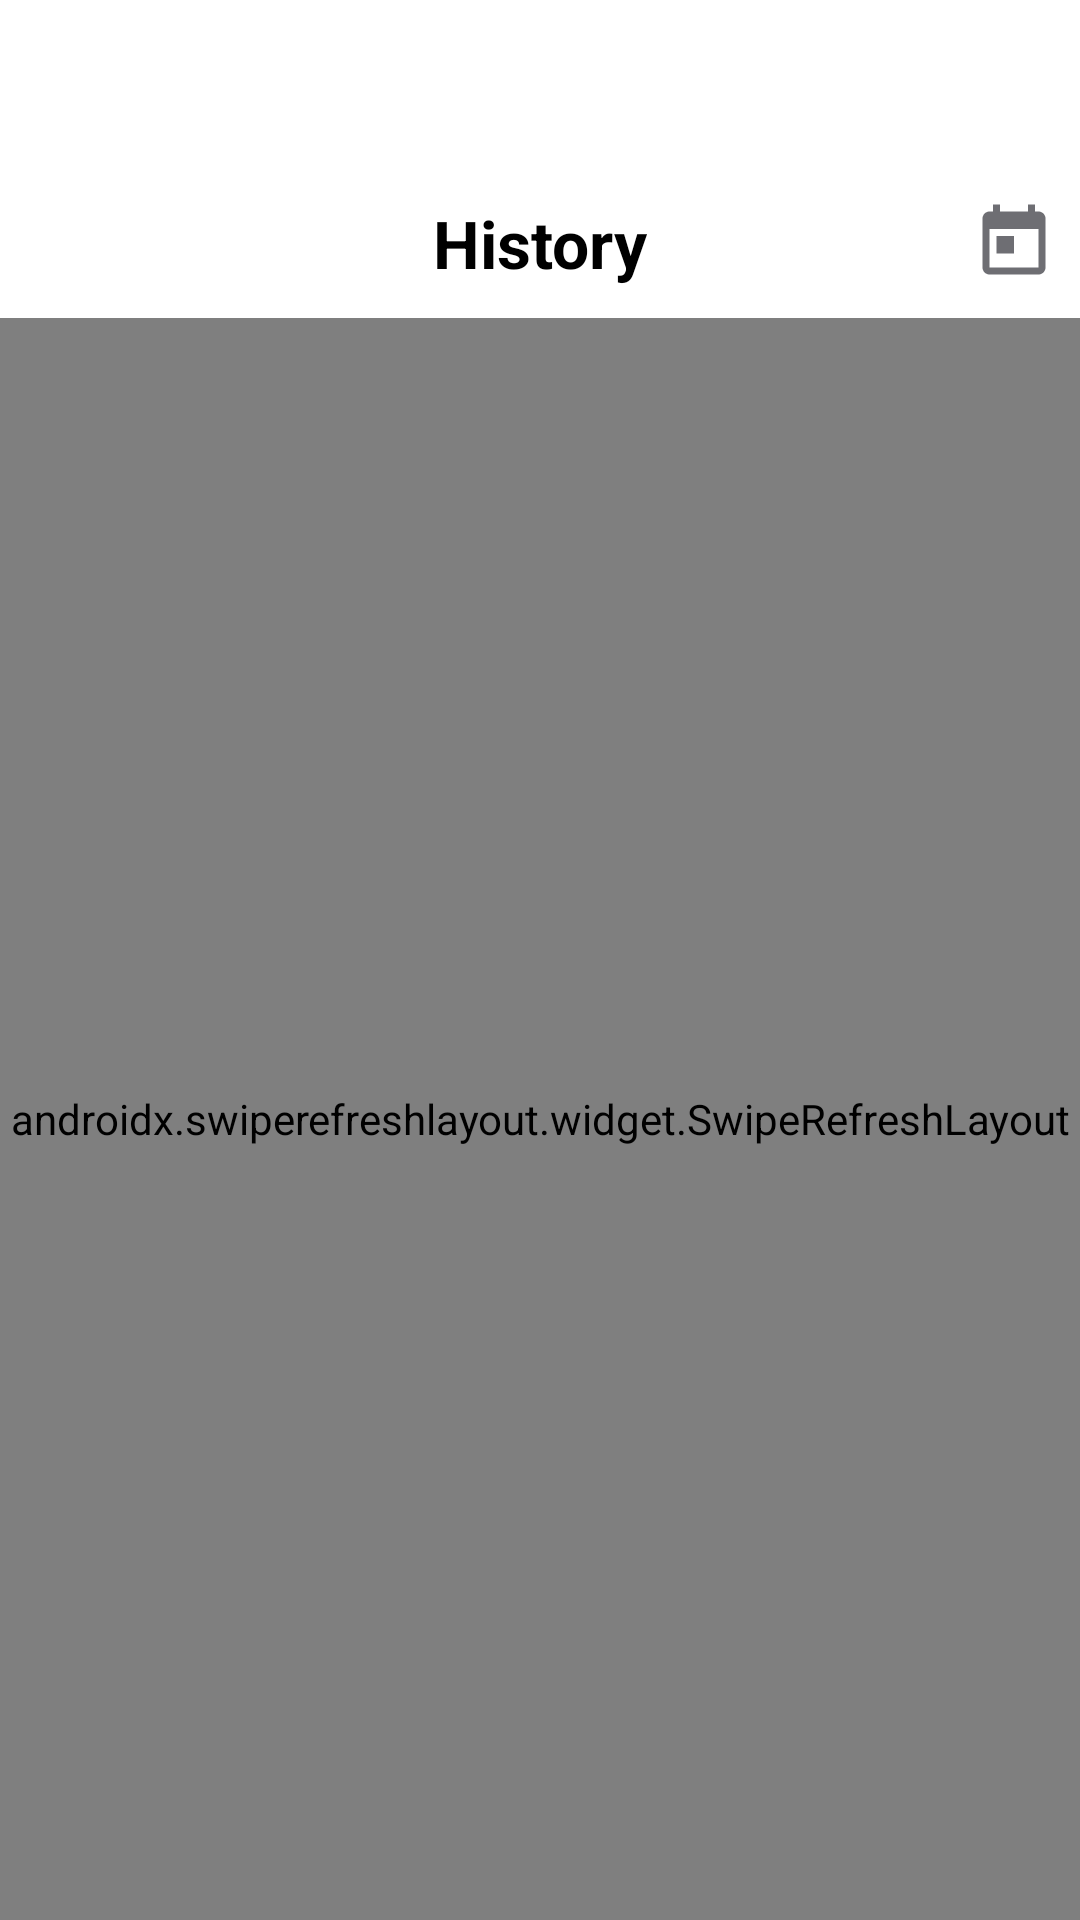

Icons on this 1080*1920 Android screen, each with the point to tap as (x,y):
Filter by date range: (1014,239)
